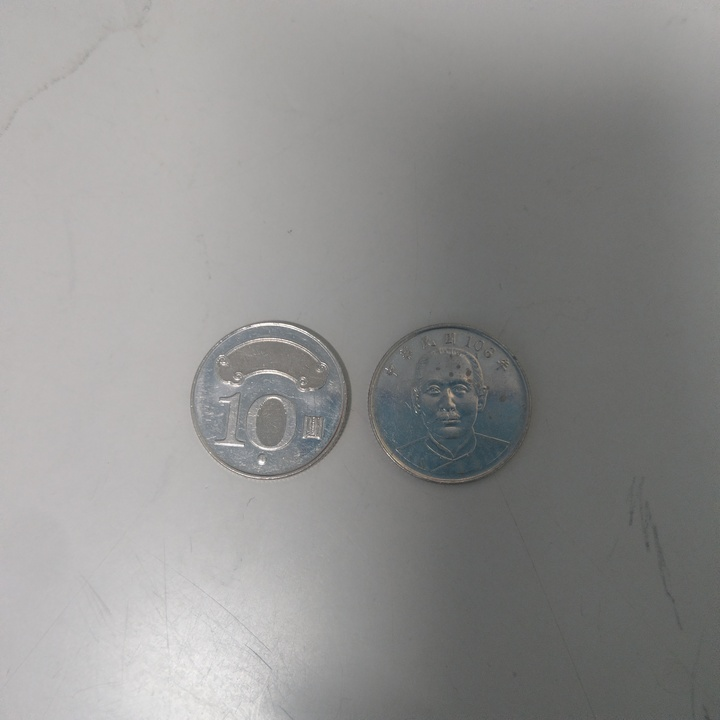10 dollar: (367, 322, 533, 485), (188, 319, 351, 482)
